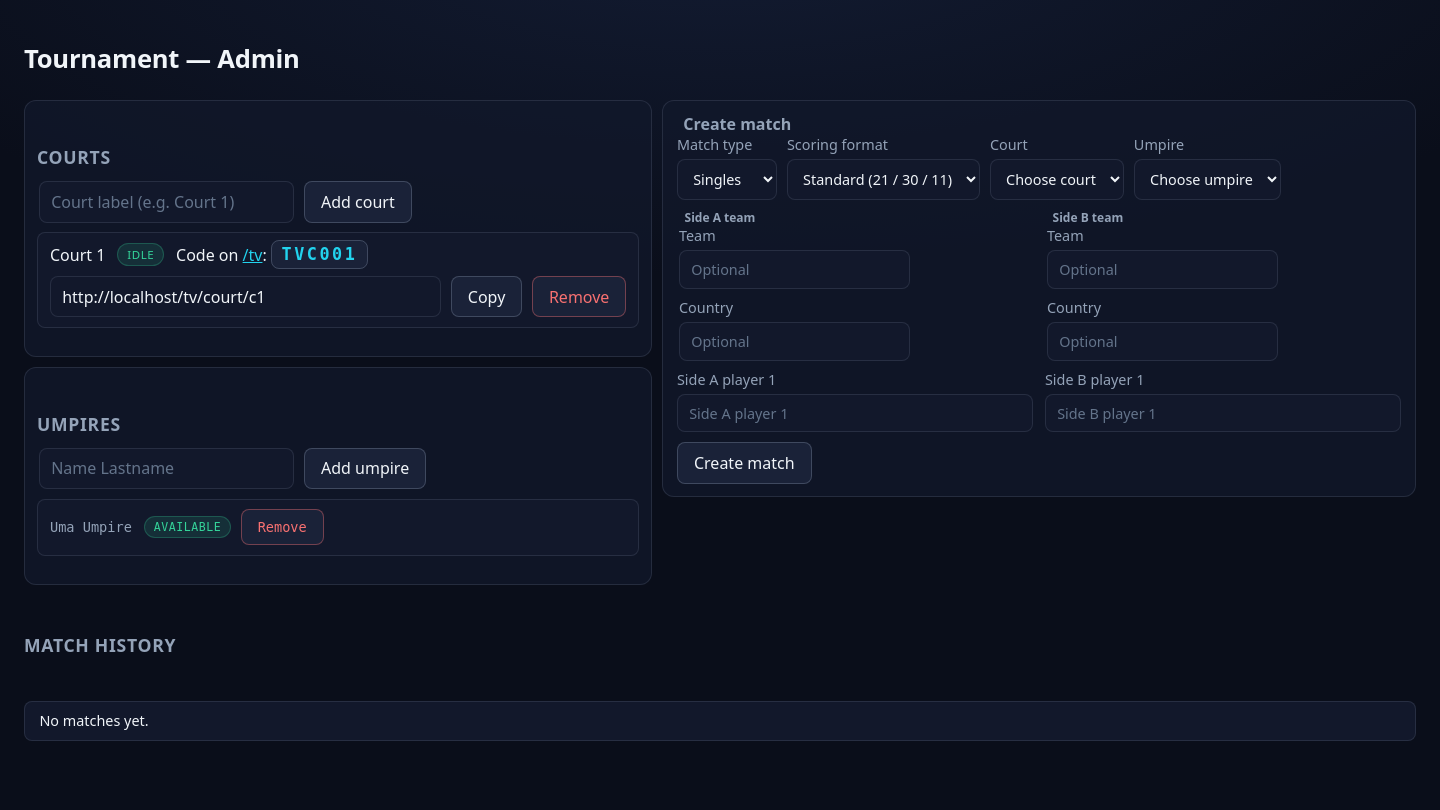
Test case: AdminDashboard › courts › falls back to a generic message when a failed court removal has no error field
Expected: the text "Court 1" is shown, [50, 244, 105, 266]
Click the button "Remove" below "TVC001" at (579, 297), box [532, 276, 626, 318]
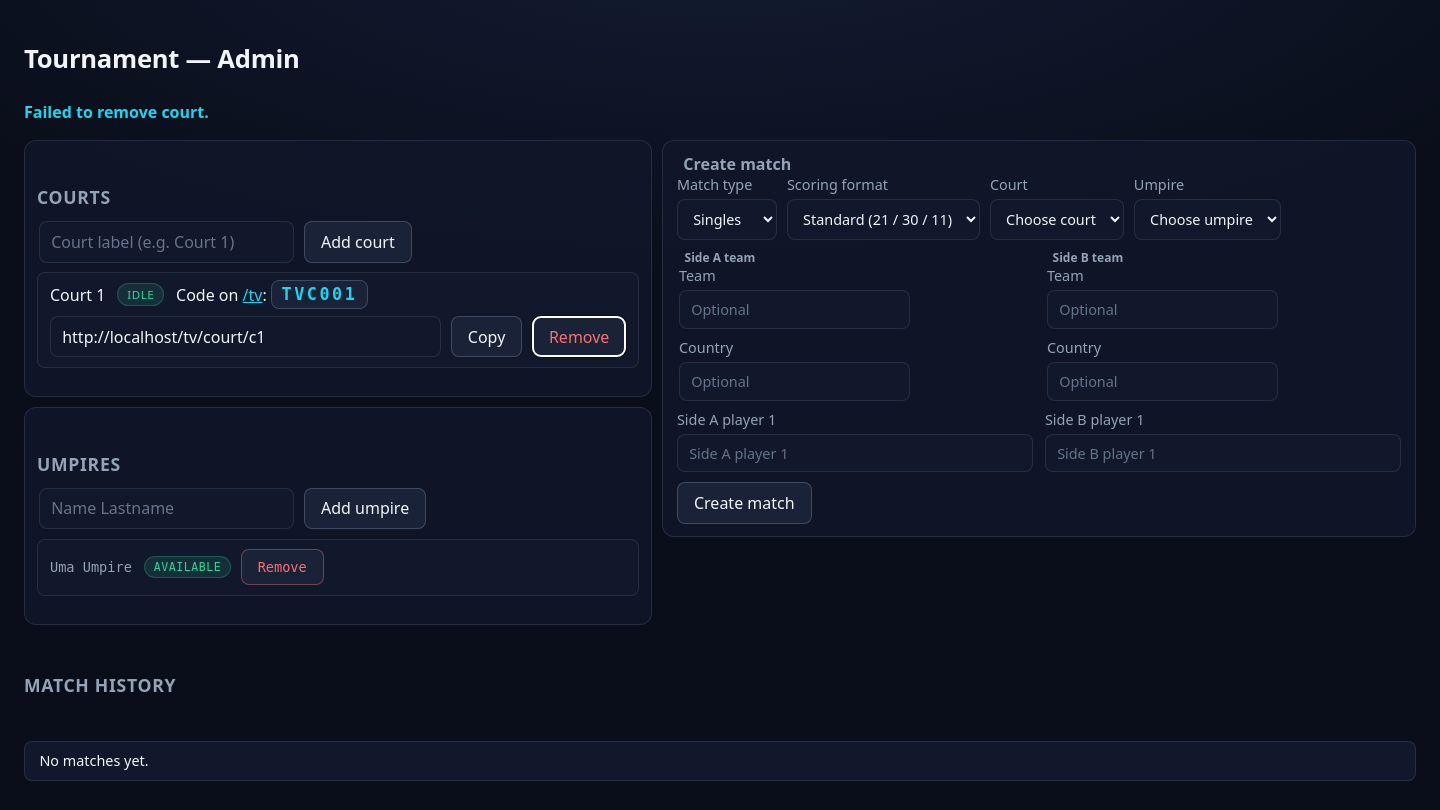
Result: the text "Failed to remove court." is shown at [24, 101, 209, 123]
